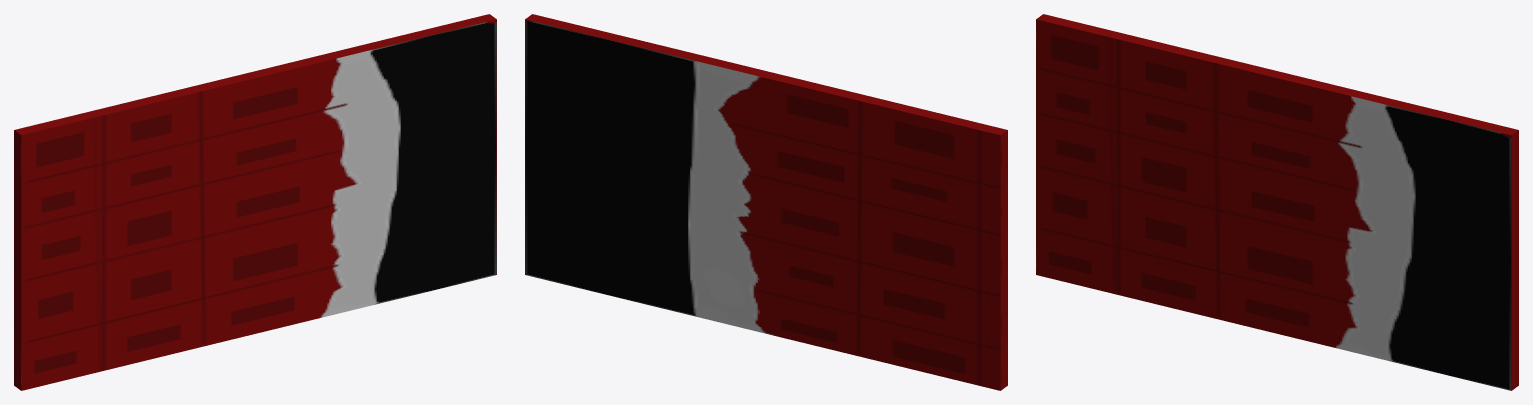
The model's file is chocolate.obj.
3 views of the same model, side by side, from view 1: azimuth 30°, elevation 25°; view 2: azimuth 150°, elevation 25°; view 3: azimuth 330°, elevation 25° (orthographic).
Parts seen in each view (by area): view 1: 立方体; view 2: 立方体; view 3: 立方体.
Boxes of the visible parts, x1,y1,x2,y2 form: 立方体: (14,14,496,390); 立方体: (525,14,1007,390); 立方体: (1036,14,1518,390).
Size of the model in its own units: 3.89 by 2 by 0.1037.
